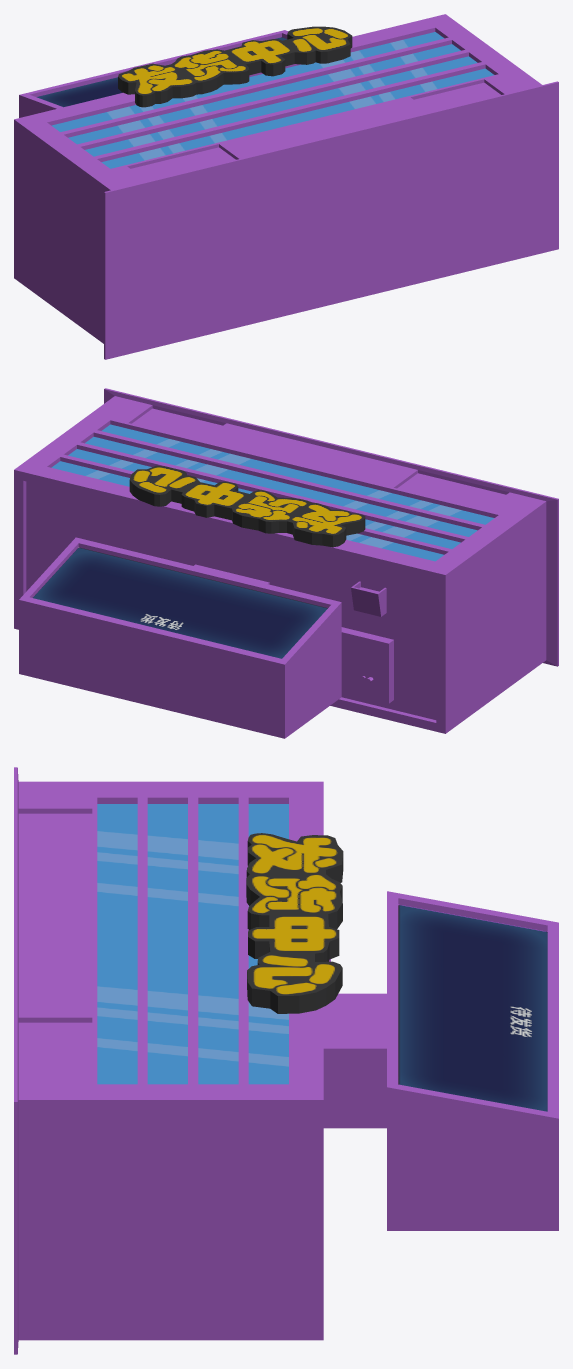
Rendered from FaHuo2_Mo.fbx.
The picture shows the model from 3 angles, top to bottom: view 1: azimuth 30°, elevation 25°; view 2: azimuth 150°, elevation 25°; view 3: azimuth 270°, elevation 25°; orthographic projection. The views are drawn at different scales.
Parts seen in each view (by area): view 1: Cube425; view 2: Cube425; view 3: Cube425.
Part boxes in pixels (left/top/right/bottom): Cube425: left=14, top=14, right=558, bottom=359; Cube425: left=14, top=388, right=558, bottom=738; Cube425: left=14, top=767, right=558, bottom=1354.
Size of the model in its own units: 1665 by 627 by 1146.
Materials: 1 (1 with a texture image).
